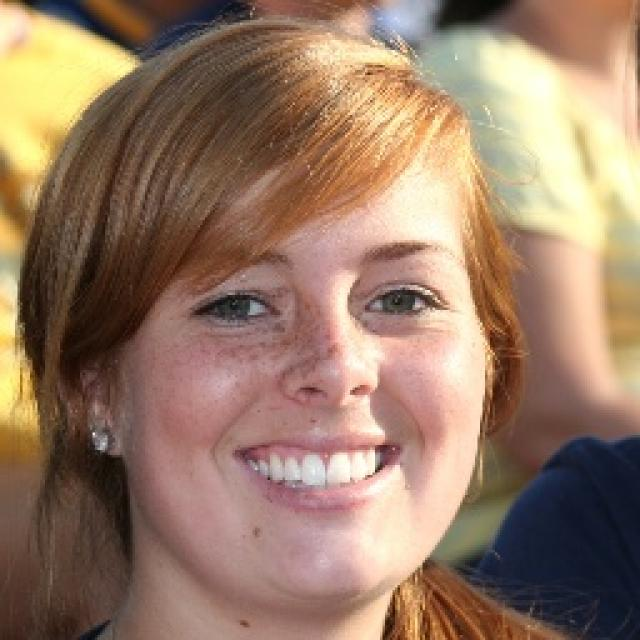earlobe: (88, 407, 126, 459)
eye: (193, 292, 275, 321), (364, 288, 444, 316)
nose: (282, 378, 391, 434)
